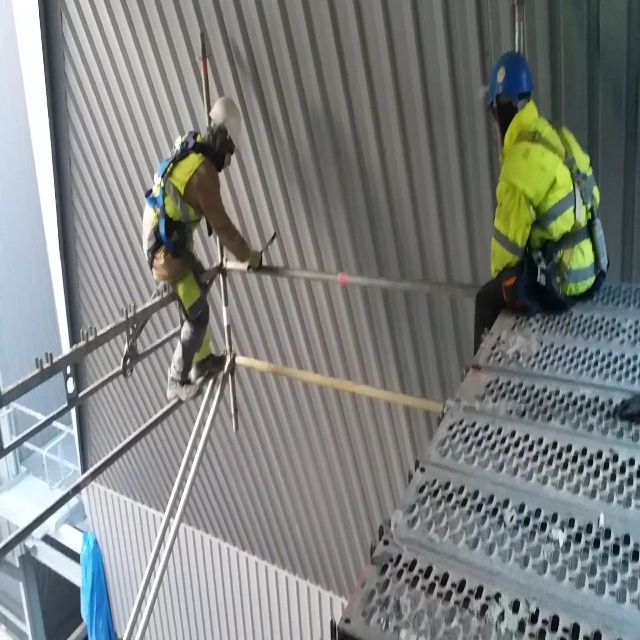Arnes_seguridad: (510, 109, 598, 299), (137, 127, 217, 287)
